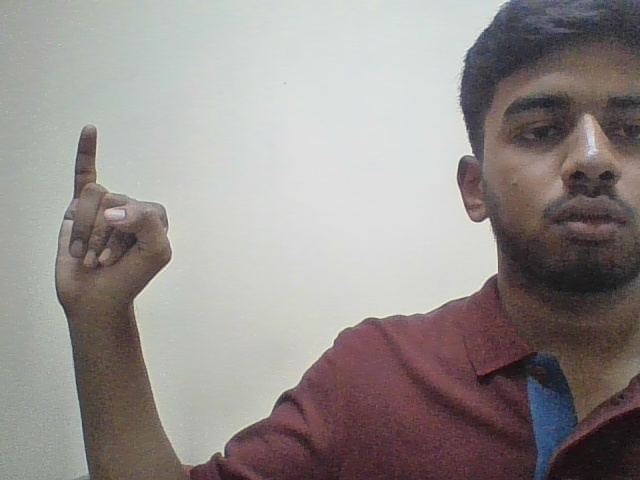I: (46, 102, 211, 342)
